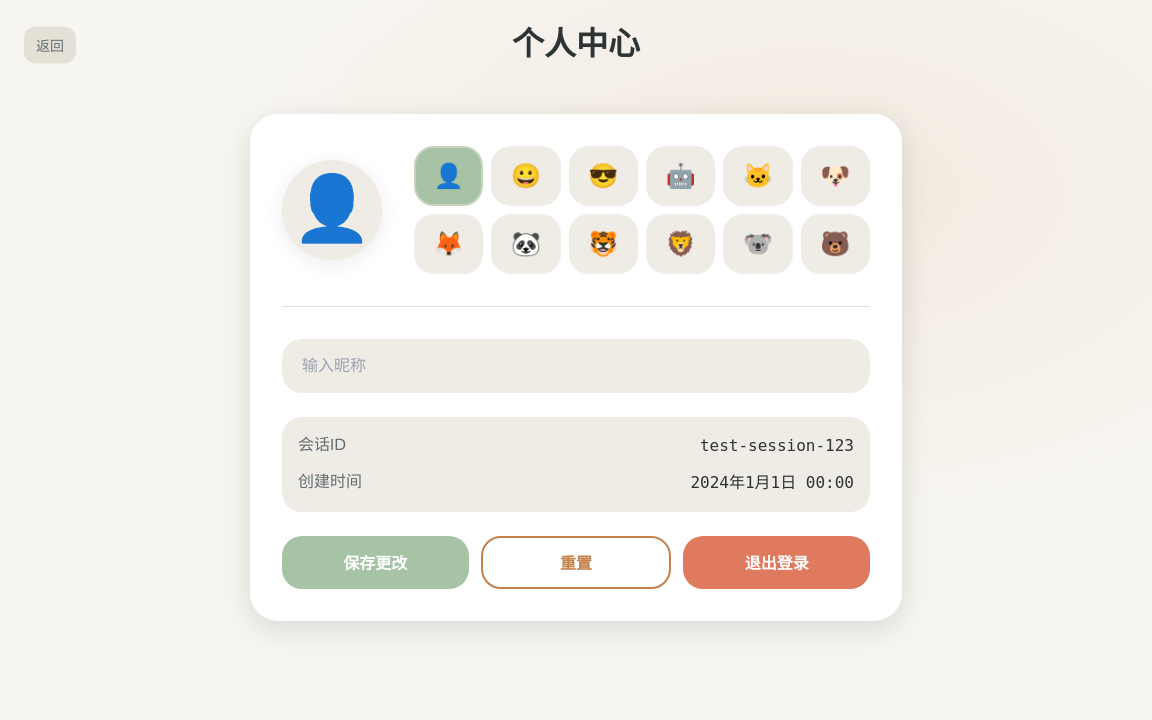
ProfileView › 表单操作测试 › 点击重置按钮应该恢复原始值
Type "新昵称" into the field with placeholder "输入昵称" at (576, 366), box [282,339,870,393]
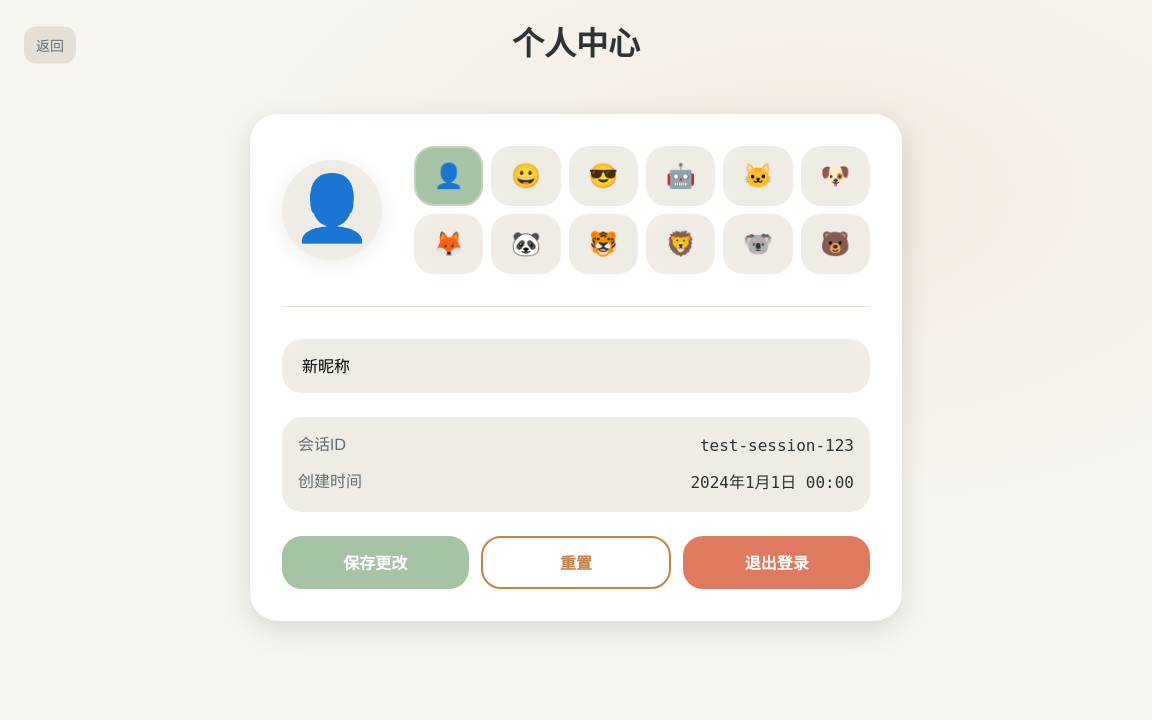
Click the button "重置" at (576, 562), box [481,536,671,589]
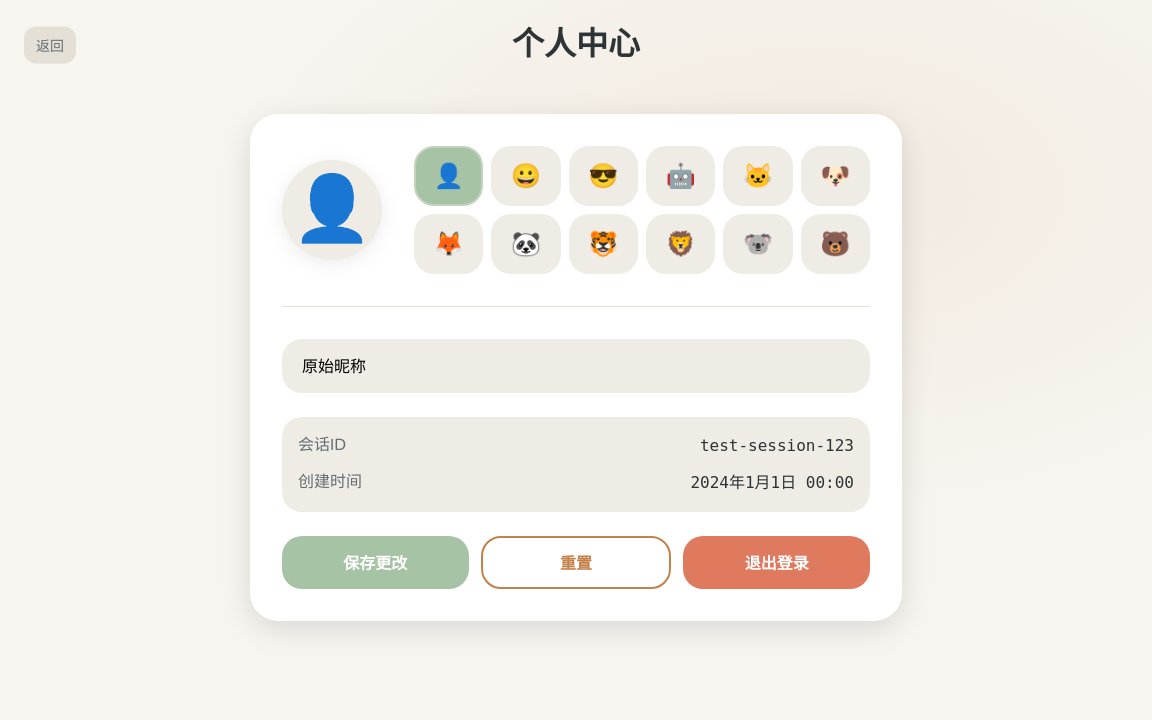
Result: the field holds "原始昵称" at [282,339,870,393]
